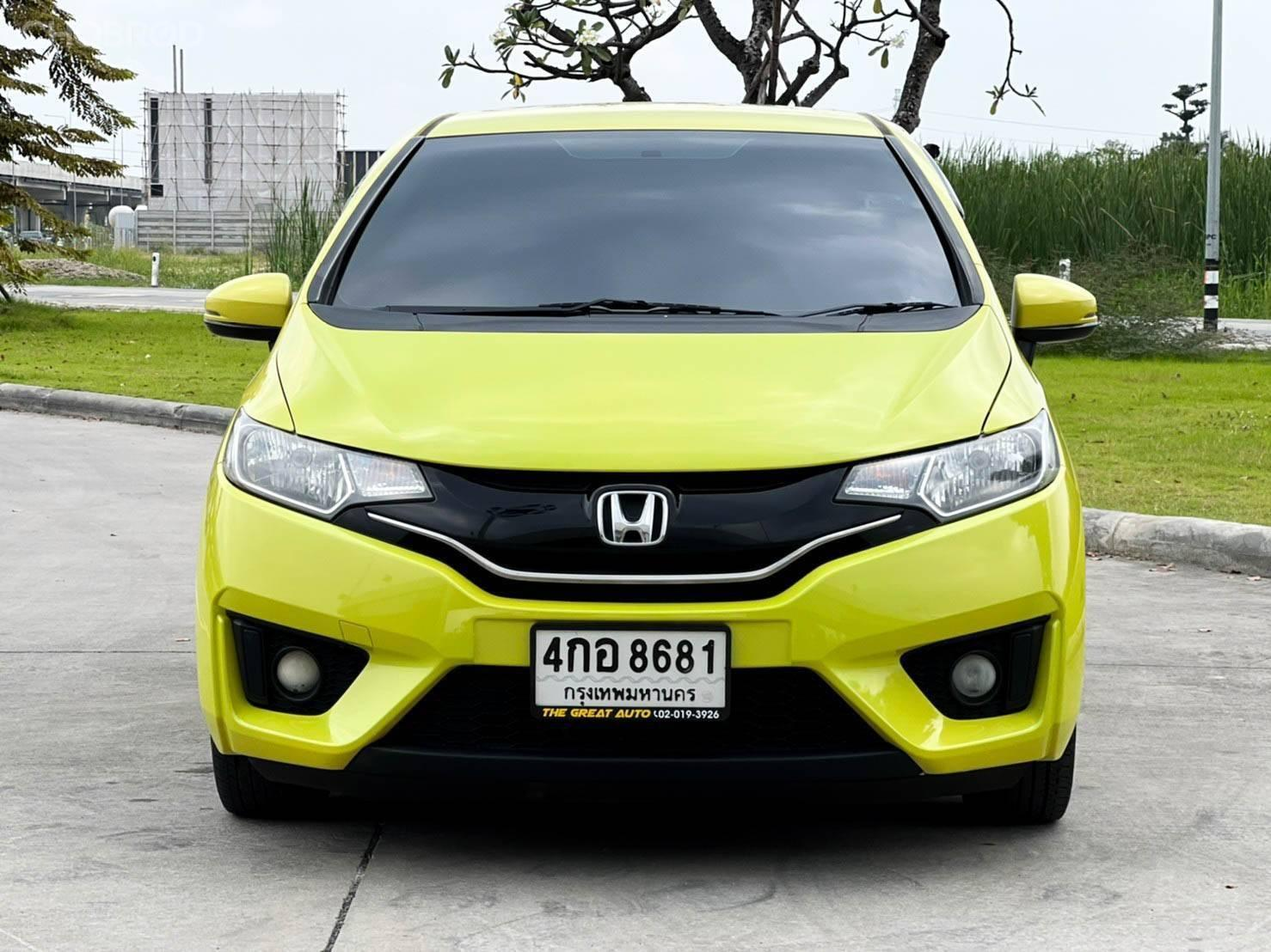license-plate: (528, 614, 733, 727)
